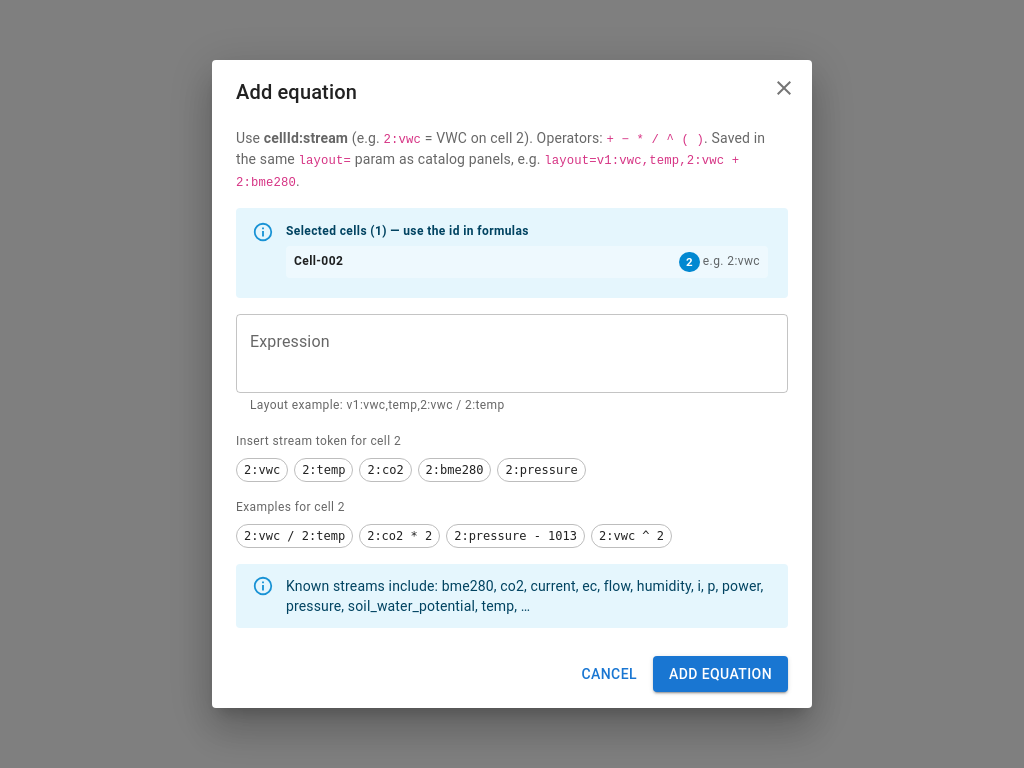
Test: AddEquationModal › inserts example expressions into the field
This screenshot has width=1024, height=768.
Step 1. Click the button "2:vwc / 2:temp" → (295, 536), box [236,524,353,548]
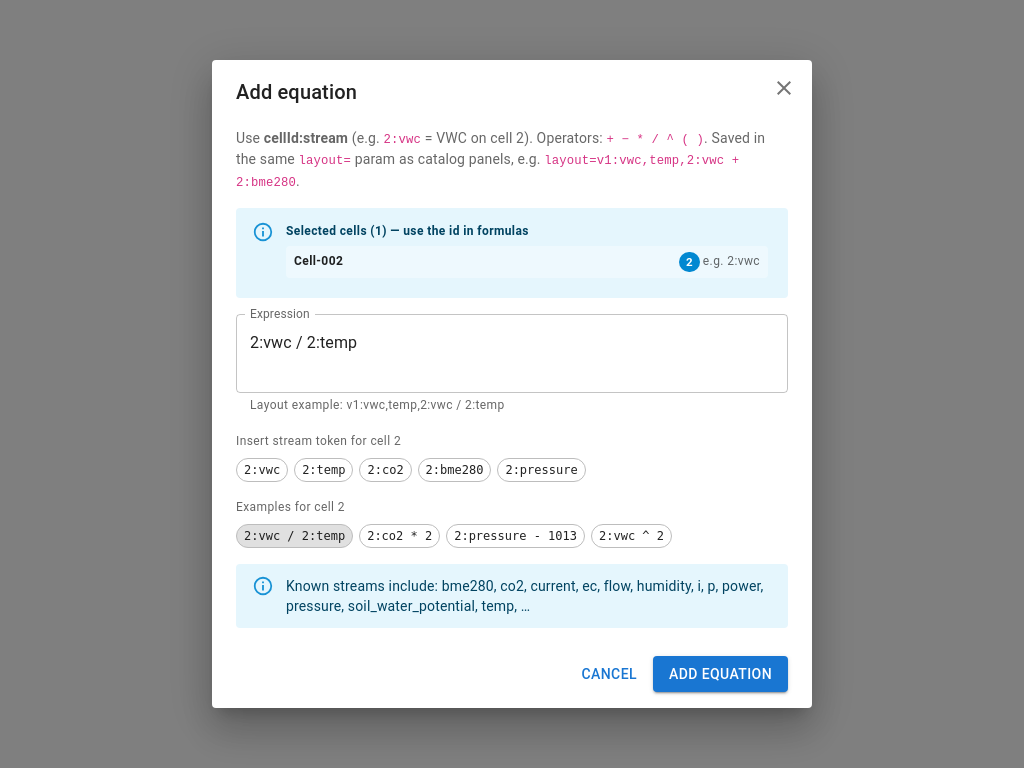
expect the text box holds "2:vwc / 2:temp": met, box [250,331,774,377]
